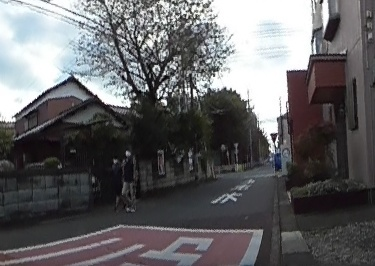person: (120, 147, 137, 213), (109, 154, 120, 213)
